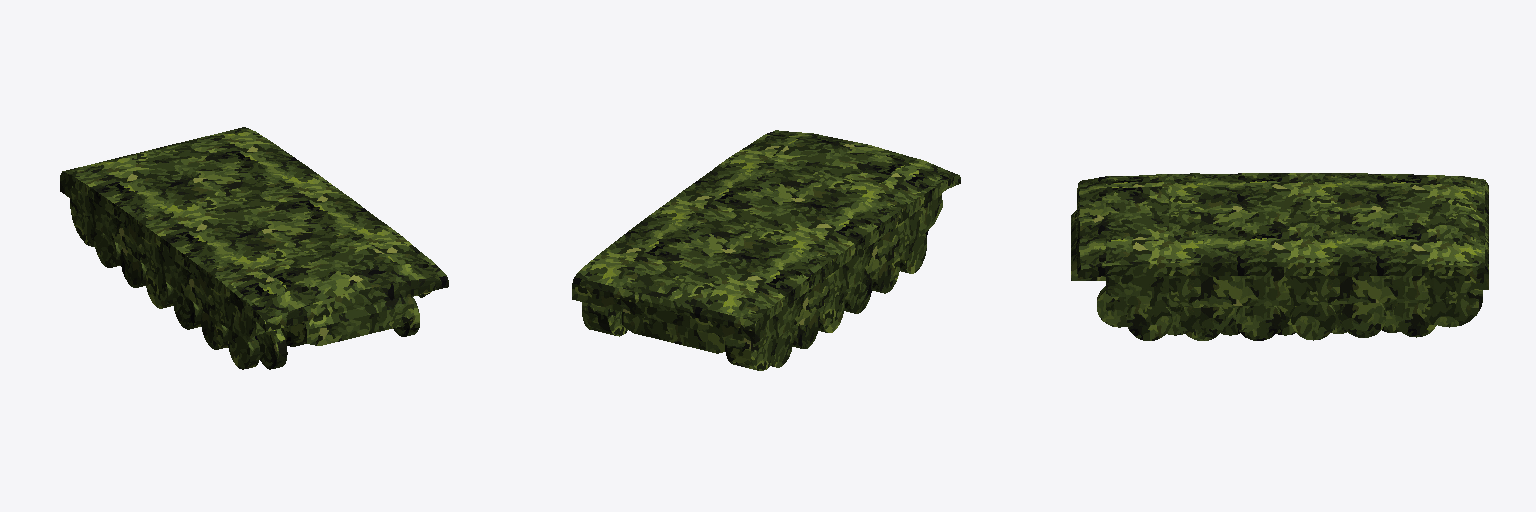
The picture shows the model from 3 angles: view 1: azimuth 30°, elevation 25°; view 2: azimuth 150°, elevation 25°; view 3: azimuth 270°, elevation 25°; orthographic projection.
Bounding box in the file's own units: 2.14 × 0.9933 × 4.24.
1 materials, 1 textured.